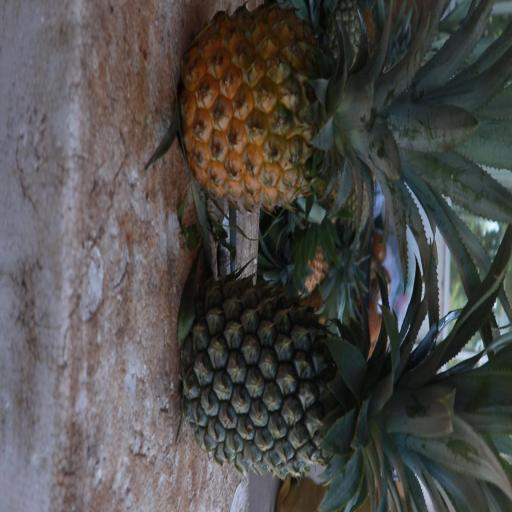Pineapple - v8 v1: (176, 15, 471, 205)
